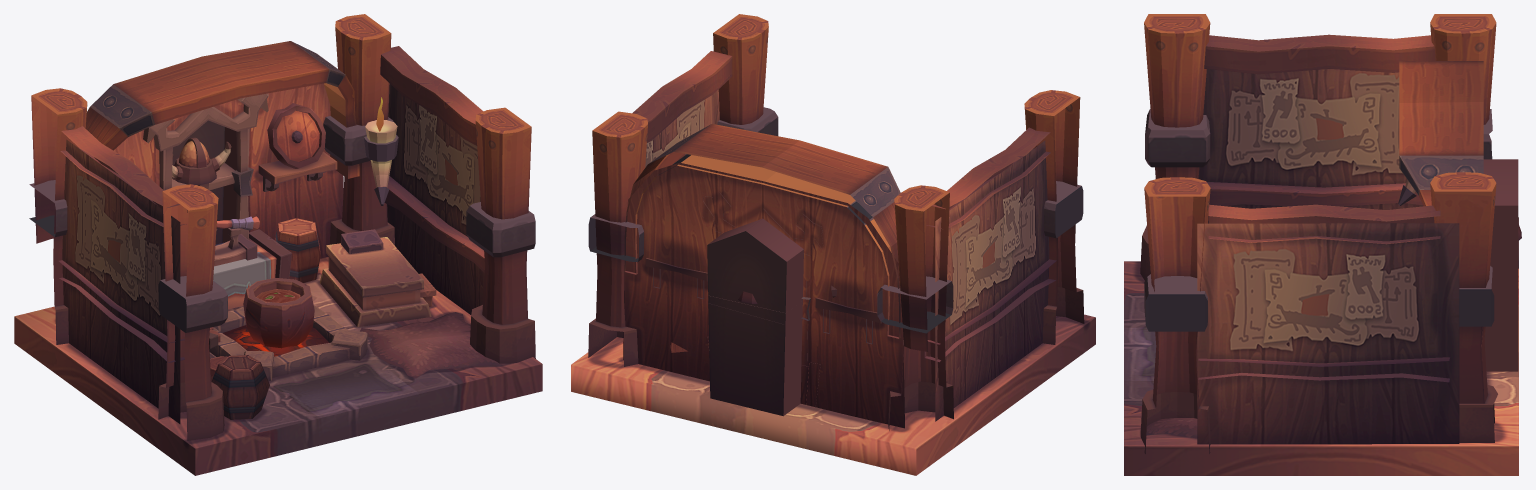
The model's file is vikingroom2w.obj.
3 views of the same model, side by side, from view 1: azimuth 30°, elevation 25°; view 2: azimuth 150°, elevation 25°; view 3: azimuth 270°, elevation 25° (orthographic). The views are drawn at different scales.
Visible parts, largest first — view 1: mesh_all1.001_Mesh.001; view 2: mesh_all1.001_Mesh.001; view 3: mesh_all1.001_Mesh.001.
Part boxes in pixels (x1,y1,x2,y2): mesh_all1.001_Mesh.001: [14, 14, 542, 475]; mesh_all1.001_Mesh.001: [571, 14, 1095, 475]; mesh_all1.001_Mesh.001: [1124, 14, 1521, 475].
Bounding box in the file's own units: 8.44 × 5.89 × 7.58.
Materials: 1 (1 with a texture image).
